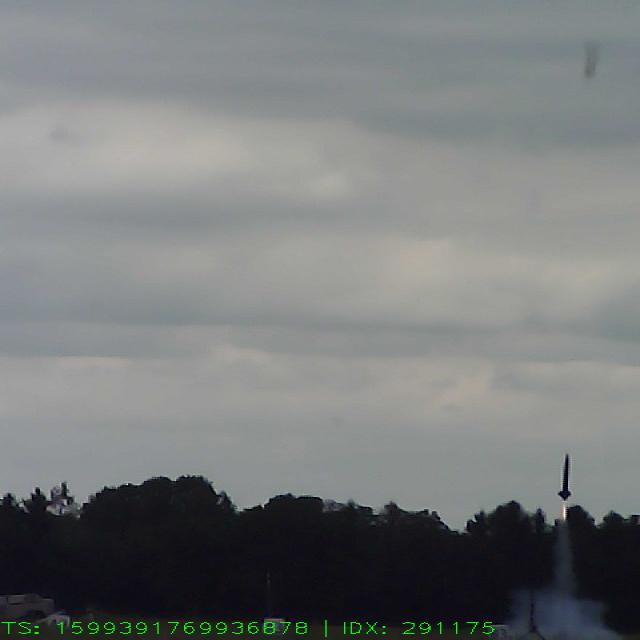Rocket: (555, 452, 573, 502)
